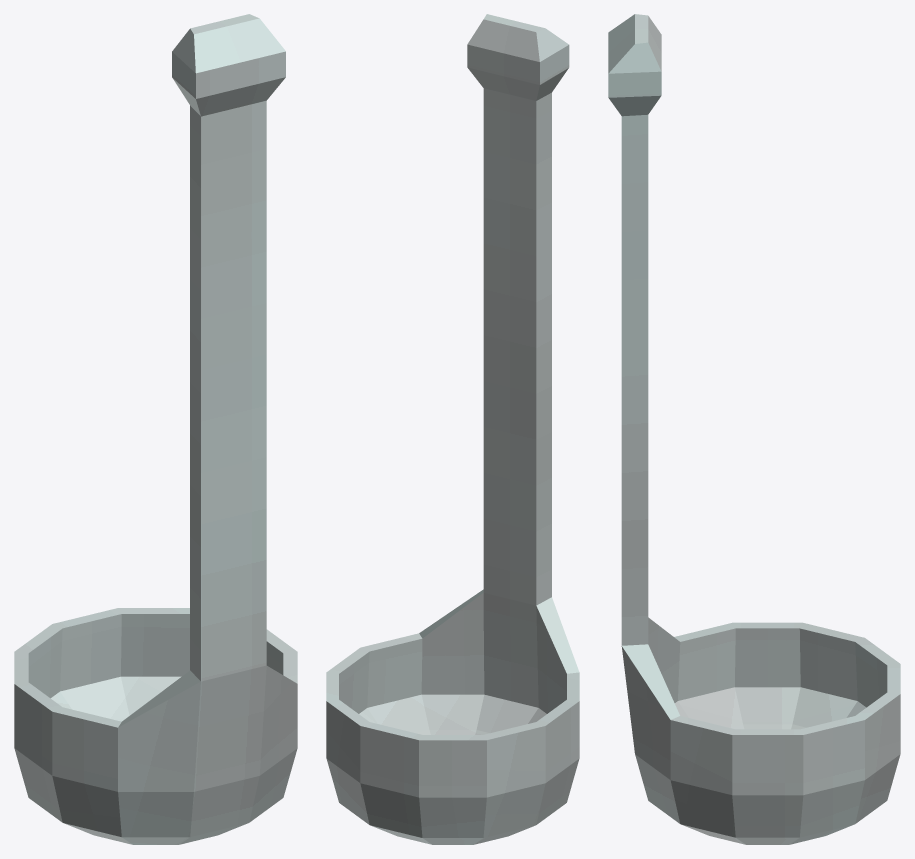
Rendered from chcla2.fbx.
The picture shows the model from 3 angles, left to right: view 1: azimuth 30°, elevation 25°; view 2: azimuth 150°, elevation 25°; view 3: azimuth 270°, elevation 25°; orthographic projection. The views are drawn at different scales.
Visible parts, largest first — view 1: chochla; view 2: chochla; view 3: chochla.
Boxes of the visible parts, x1,y1,x2,y2 form: chochla: (14, 14, 297, 844); chochla: (326, 14, 579, 844); chochla: (608, 14, 900, 844).
Bounding box in the file's own units: 31.25 × 102 × 34.38.
Materials: 1 (1 with a texture image).
